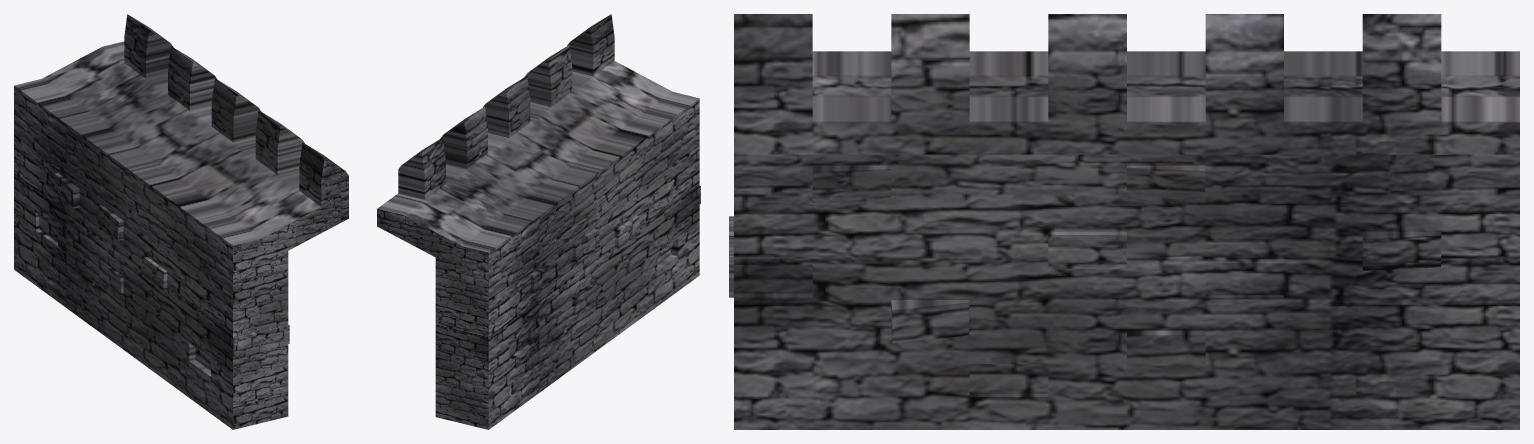
Rendered from wall.fbx.
The picture shows the model from 3 angles, left to right: view 1: azimuth 30°, elevation 25°; view 2: azimuth 150°, elevation 25°; view 3: azimuth 270°, elevation 25°; orthographic projection. The views are drawn at different scales.
Parts seen in each view (by area): view 1: pCube1; view 2: pCube1; view 3: pCube1.
Part boxes in pixels (x1=…): pCube1: x1=14, y1=14, x2=348, y2=429; pCube1: x1=377, y1=14, x2=700, y2=429; pCube1: x1=729, y1=14, x2=1519, y2=429.
Bounding box in the file's own units: 7.73 × 15.06 × 24.11.
1 material, 1 textured.
